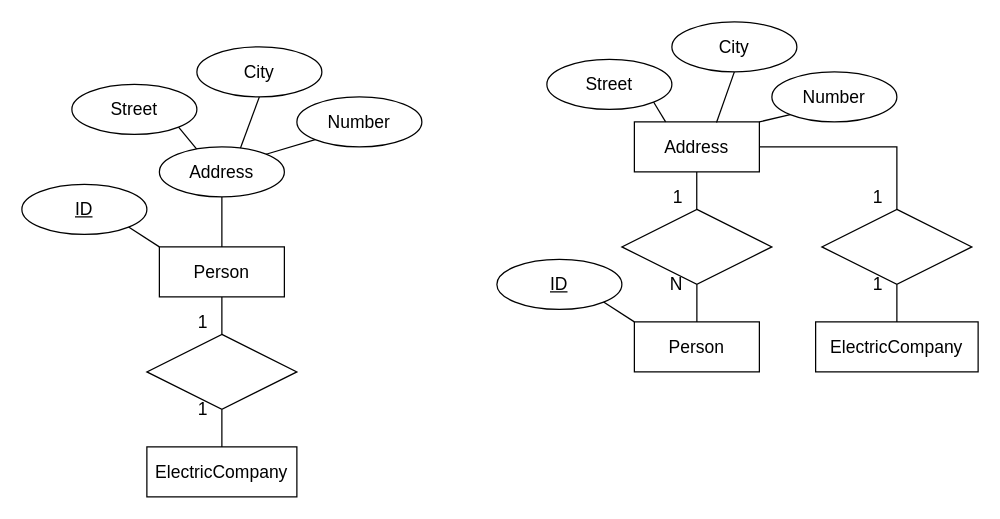
Some shapes in this 1000 by 519 pixel diagram are drawn without their labels. The shapes that lost their labels are listed below. From the top down, each one's centre as x and y in pixels, then its label:
At [696,246]: "Lives_at".
At [896,246]: "Supplies".
At [221,371]: "Relationship".
